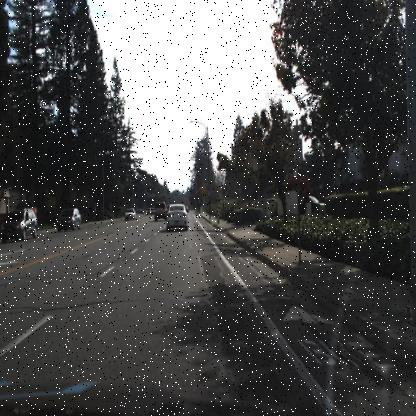car: (1, 207, 37, 241), (55, 206, 85, 234), (166, 202, 188, 231), (152, 202, 166, 223), (125, 206, 135, 221)
